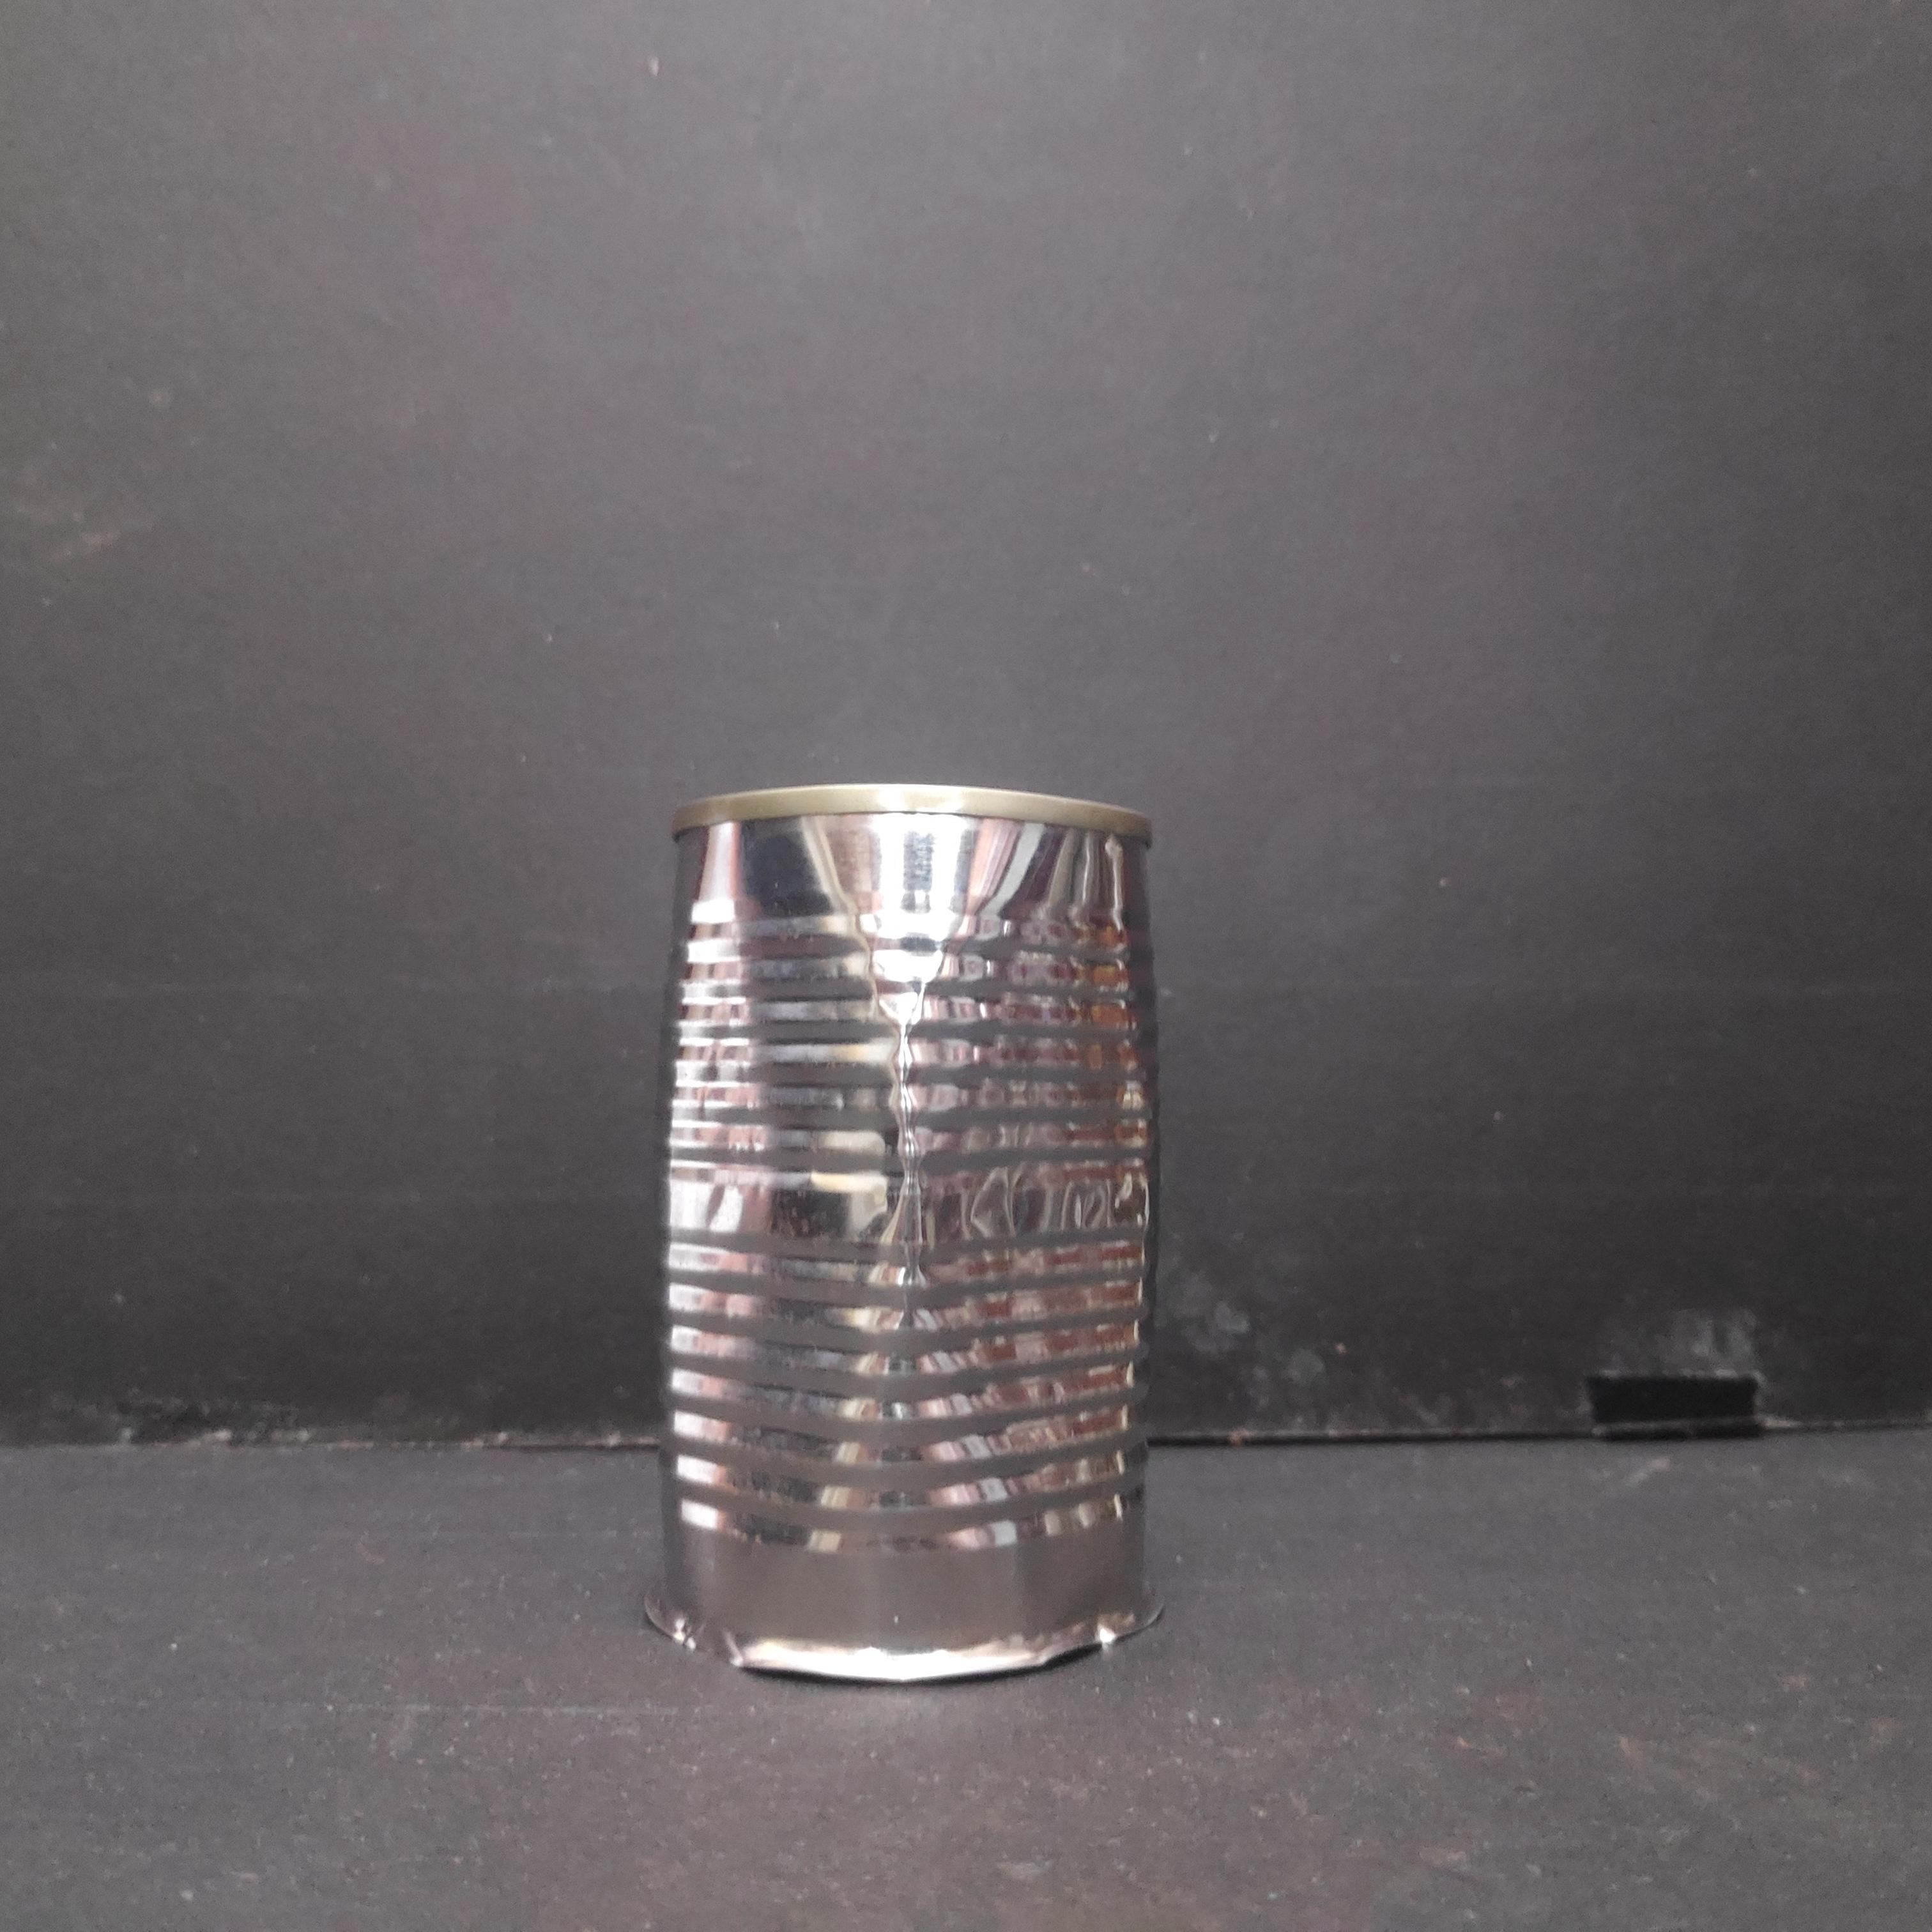Minor Defect: (653, 758, 1172, 1692)
